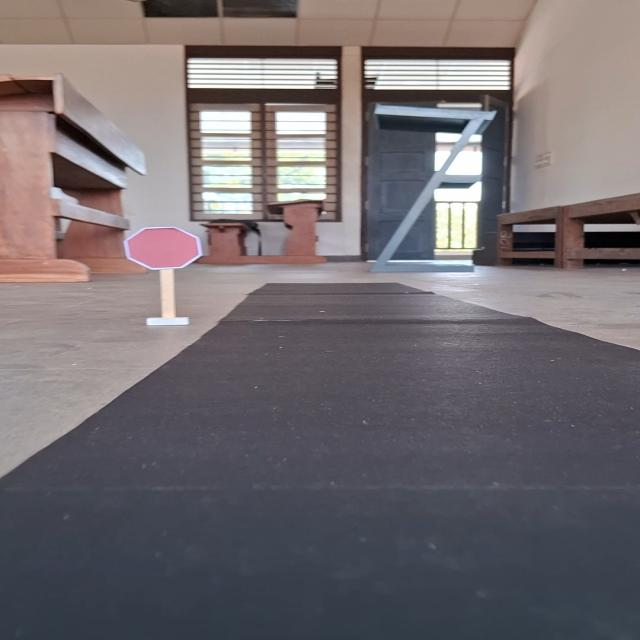Stop: (123, 226, 206, 270)
